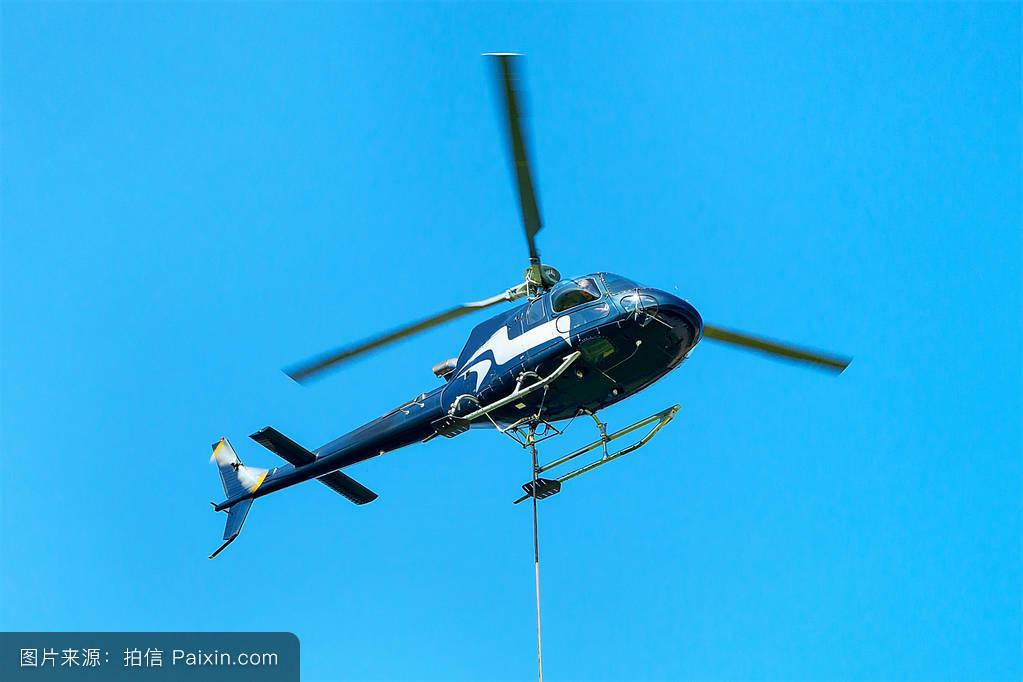airplane: (185, 47, 895, 562)
